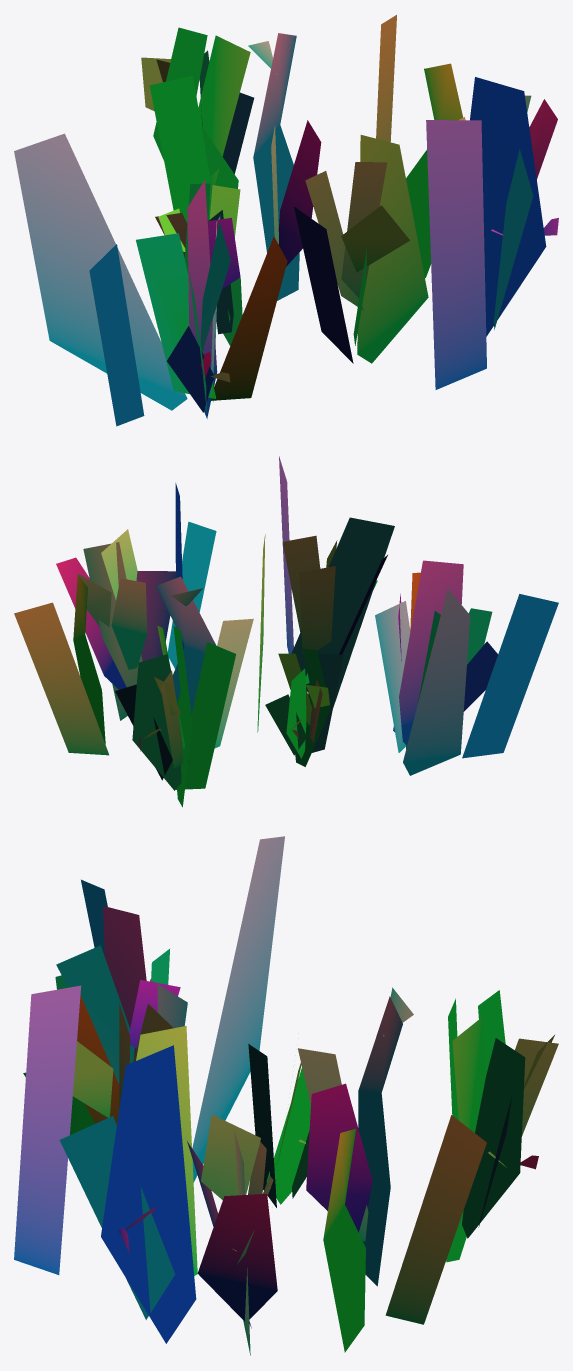
Rendered from Nordic_Coastal_Groundcover_vlqkdeaja_Mid_vlqkdeaja_VarL_LOD2.fbx.
3 views of the same model, one above another, from view 1: azimuth 30°, elevation 25°; view 2: azimuth 150°, elevation 25°; view 3: azimuth 270°, elevation 25° (orthographic). The views are drawn at different scales.
Parts seen in each view (by area): view 1: _5yc7_VarL_LOD4; view 2: _5yc7_VarL_LOD4; view 3: _5yc7_VarL_LOD4.
Part boxes in pixels (box(x1,y1,x2,y2)): _5yc7_VarL_LOD4: box(14, 15, 558, 426); _5yc7_VarL_LOD4: box(14, 456, 558, 807); _5yc7_VarL_LOD4: box(14, 836, 558, 1355).
Size of the model in its own units: 81.64 by 41.88 by 64.73.
